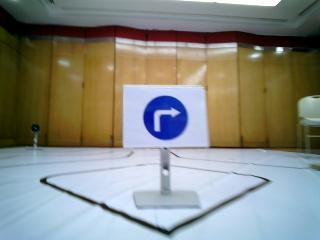right: (124, 86, 210, 147)
